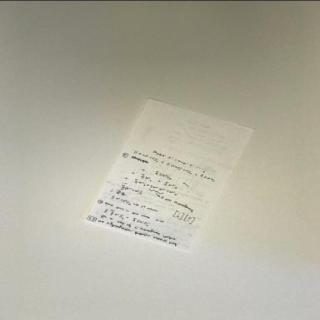Anorganik: (86, 96, 258, 250)
